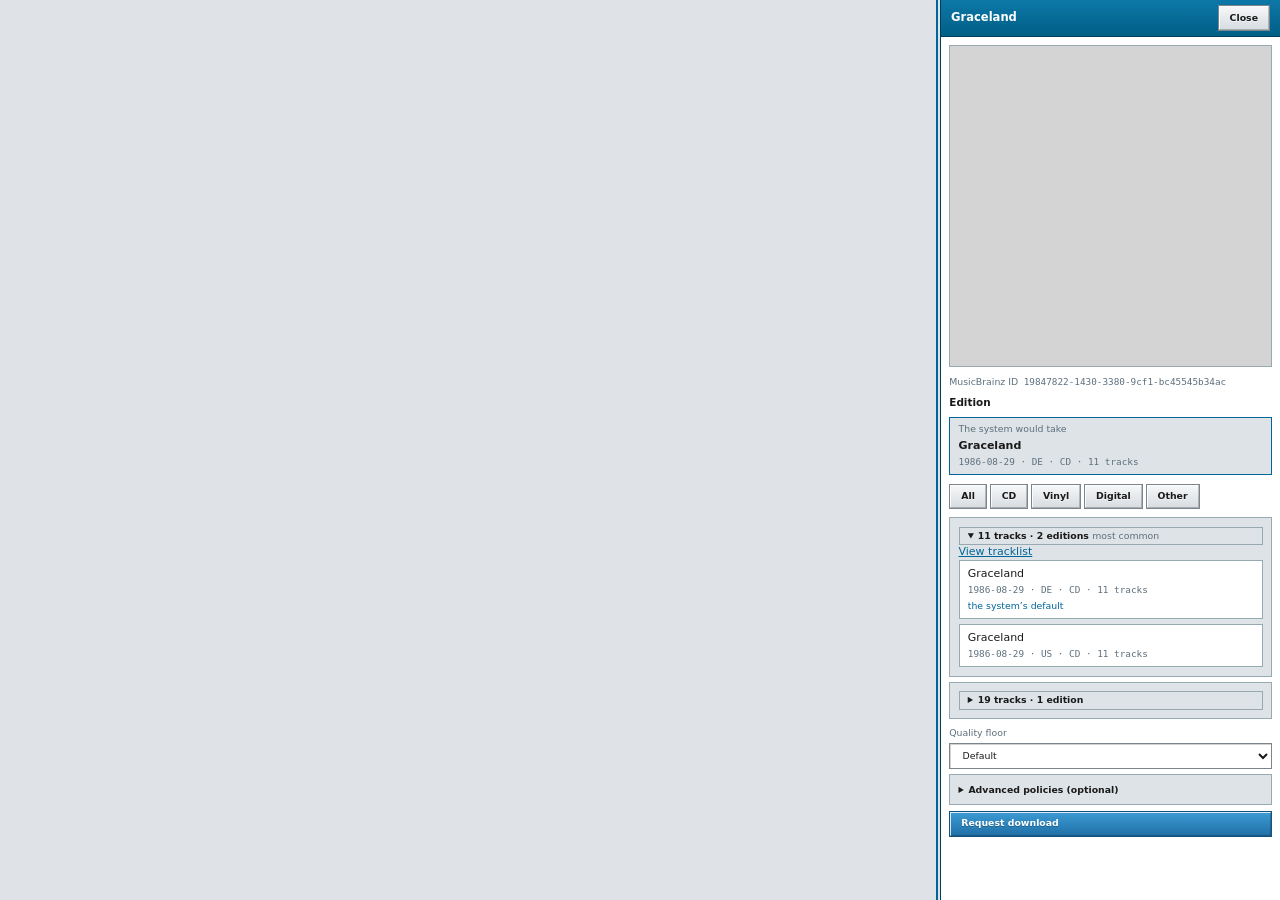
CatalogDetail › says when a format has no pressings, rather than showing an empty listing
Click the button "Vinyl".
click(1056, 496)  # box [1031, 484, 1081, 509]
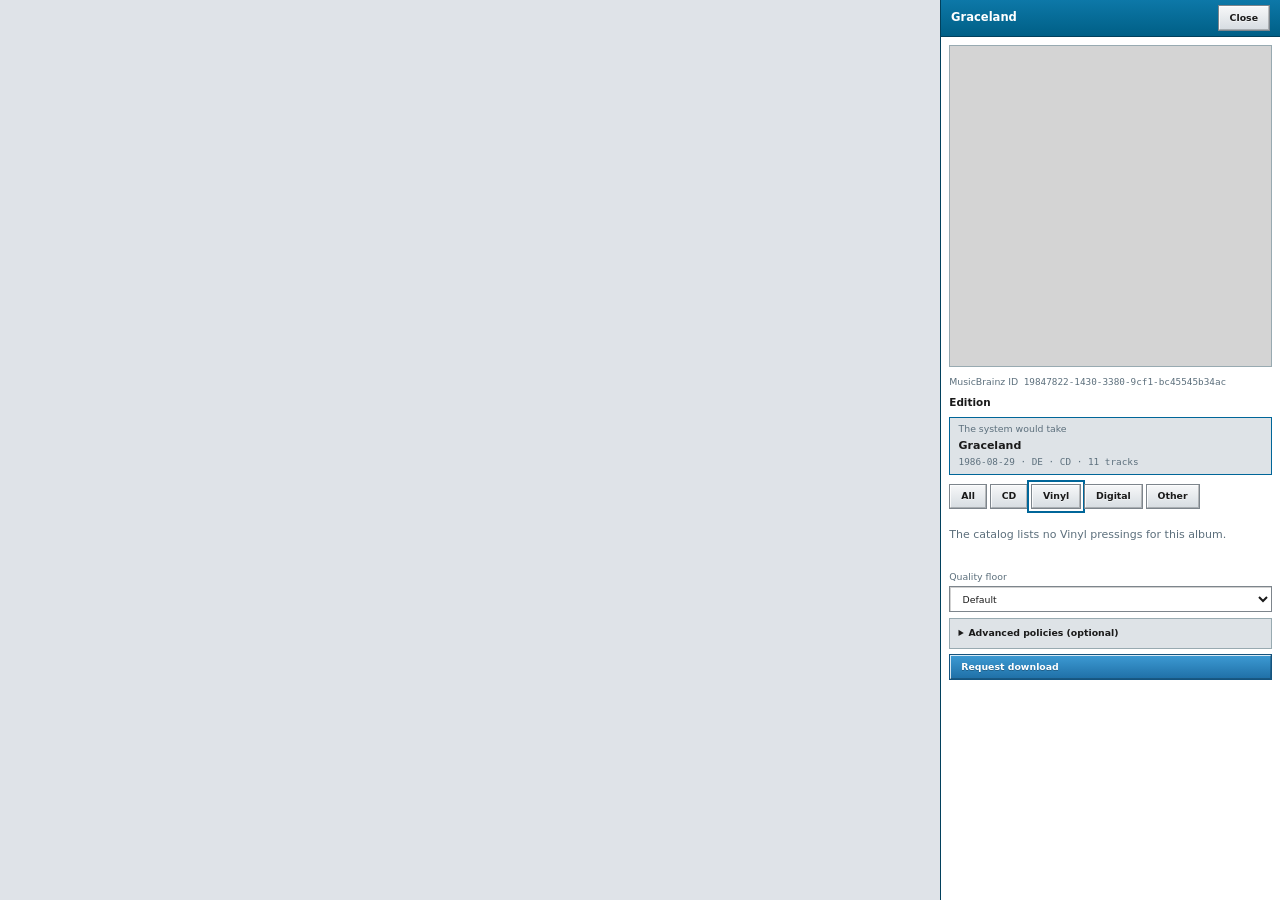
Result: the text "The catalog lists no Vinyl pressings for this album." is shown at [949, 528, 1272, 543]
